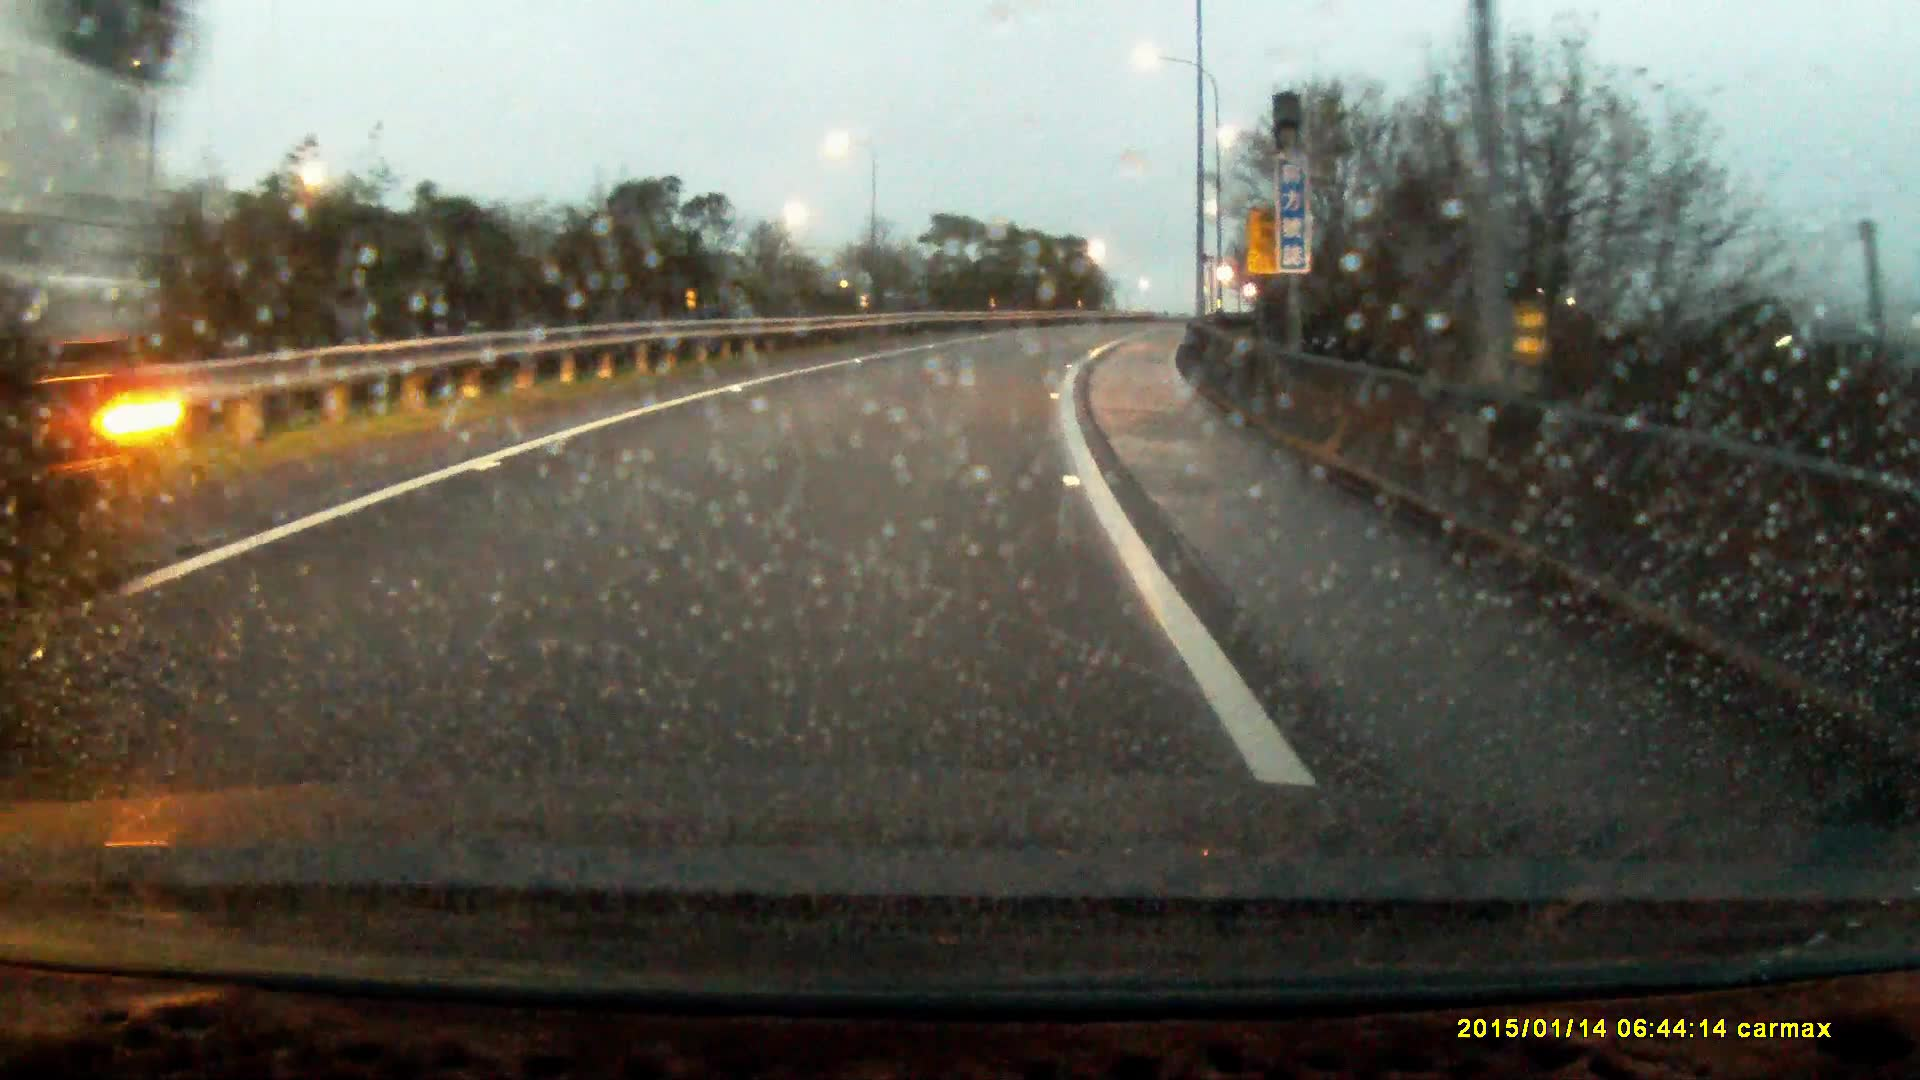vehicle: (1, 1, 189, 647)
